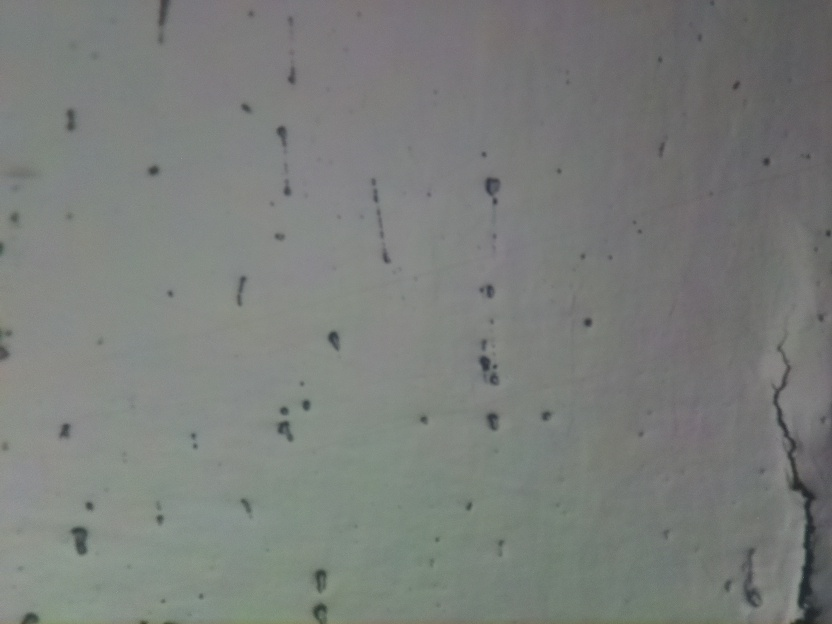crack: (769, 302, 832, 624)
